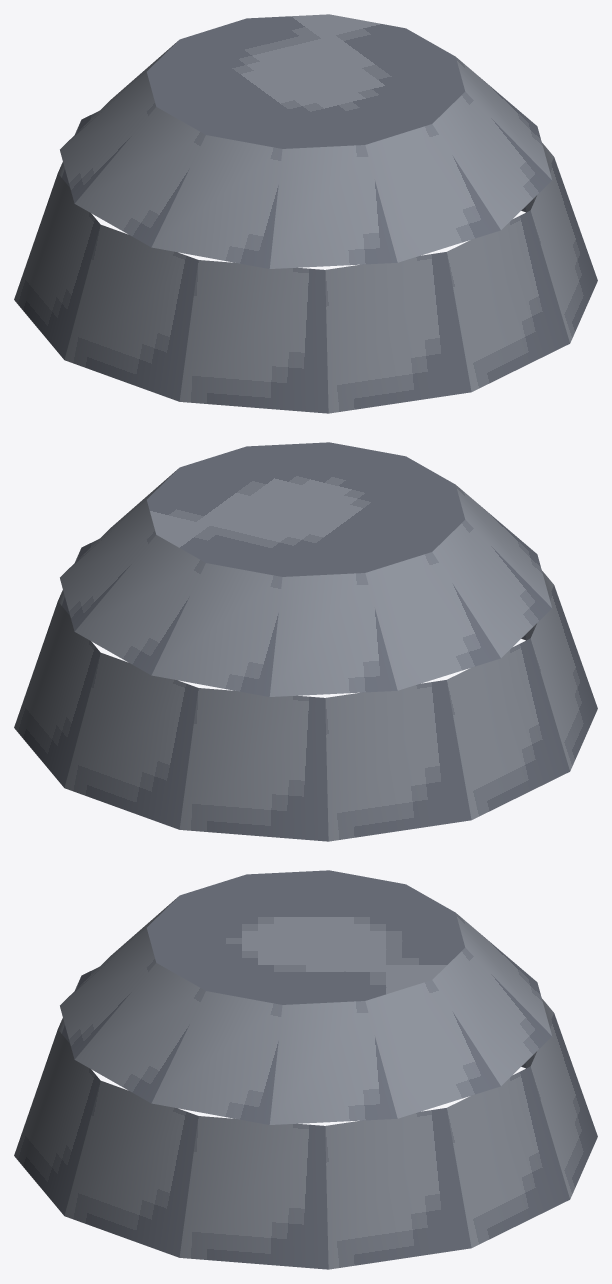
The model's file is rock_7.glb.
The picture shows the model from 3 angles, top to bottom: view 1: azimuth 30°, elevation 25°; view 2: azimuth 150°, elevation 25°; view 3: azimuth 270°, elevation 25°; orthographic projection.
Visible parts, largest first — view 1: rock_8; view 2: rock_8; view 3: rock_8.
Boxes of the visible parts, x1=… form: rock_8: x1=14, y1=14, x2=597, y2=413; rock_8: x1=14, y1=442, x2=597, y2=841; rock_8: x1=14, y1=870, x2=597, y2=1269.
Bounding box in the file's own units: 1.14 × 0.4474 × 1.14.
Materials: 1 (1 with a texture image).
